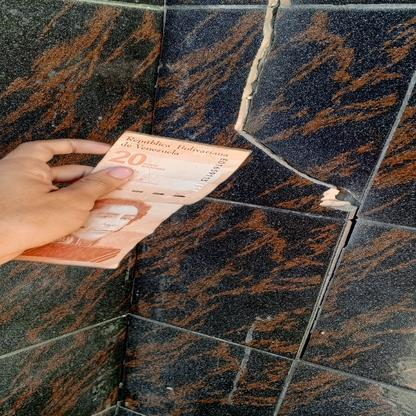twenty-front-vef: (11, 130, 253, 270)
